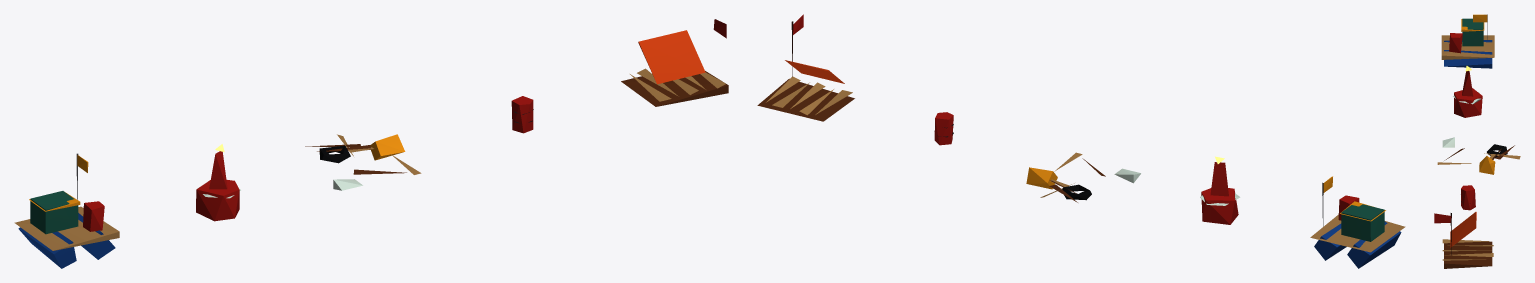
The model's file is tb_debris_kit.three-web-toon.lod25.glb.
3 renders of one model, left to right at view 1: azimuth 30°, elevation 25°; view 2: azimuth 150°, elevation 25°; view 3: azimuth 270°, elevation 25°, orthographic. The views are drawn at different scales.
Parts seen in each view (by area): view 1: cache_crate_lod, castaway_raft_lod, buoy_lod, debris_patch_lod, oil_drum_lod; view 2: cache_crate_lod, castaway_raft_lod, buoy_lod, debris_patch_lod, oil_drum_lod; view 3: cache_crate_lod, castaway_raft_lod, buoy_lod, debris_patch_lod, oil_drum_lod.
Part boxes in pixels (box(x1,y1,x2,y2)): cache_crate_lod: box(14, 153, 119, 268); castaway_raft_lod: box(621, 19, 728, 106); buoy_lod: box(196, 144, 240, 221); debris_patch_lod: box(305, 134, 421, 190); oil_drum_lod: box(511, 96, 533, 133); cache_crate_lod: box(1310, 176, 1405, 268); castaway_raft_lod: box(757, 14, 854, 121); buoy_lod: box(1200, 156, 1240, 224); debris_patch_lod: box(1026, 152, 1140, 202); oil_drum_lod: box(934, 112, 953, 145); cache_crate_lod: box(1441, 14, 1494, 68); castaway_raft_lod: box(1434, 212, 1493, 268); buoy_lod: box(1453, 66, 1482, 117); debris_patch_lod: box(1437, 137, 1520, 174); oil_drum_lod: box(1461, 185, 1475, 210).
Size of the model in its own units: 22.3 by 2.88 by 3.58.
